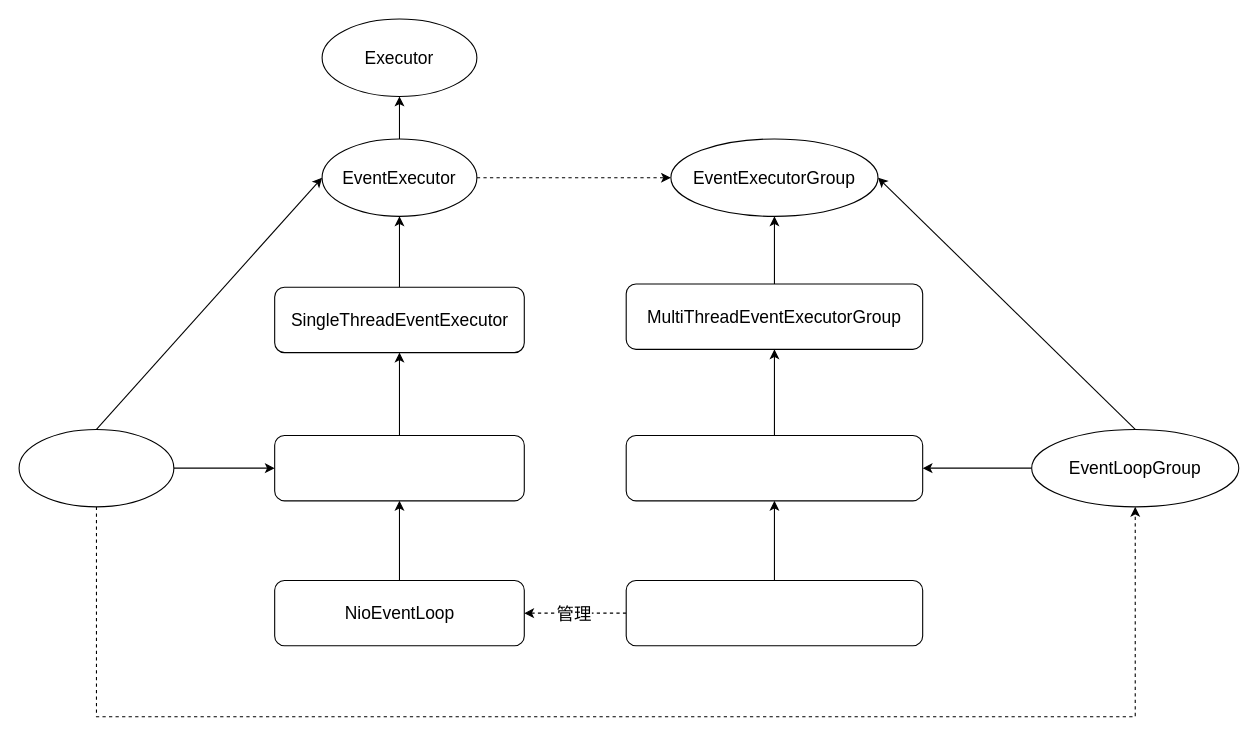
Image size: 1258x744. Some labels were removed from this diagram. The shapes that lost their labels are listed below. From the top down, each one's box as (x1, y1, x2, y2) in pixels, then its label:
(18, 428, 174, 507): EventLoop
(274, 434, 524, 501): SingleThreadEventLoop
(625, 434, 923, 501): MultiThreadEventLoopGroup
(625, 579, 923, 646): NioThreadEventLoopGroup
